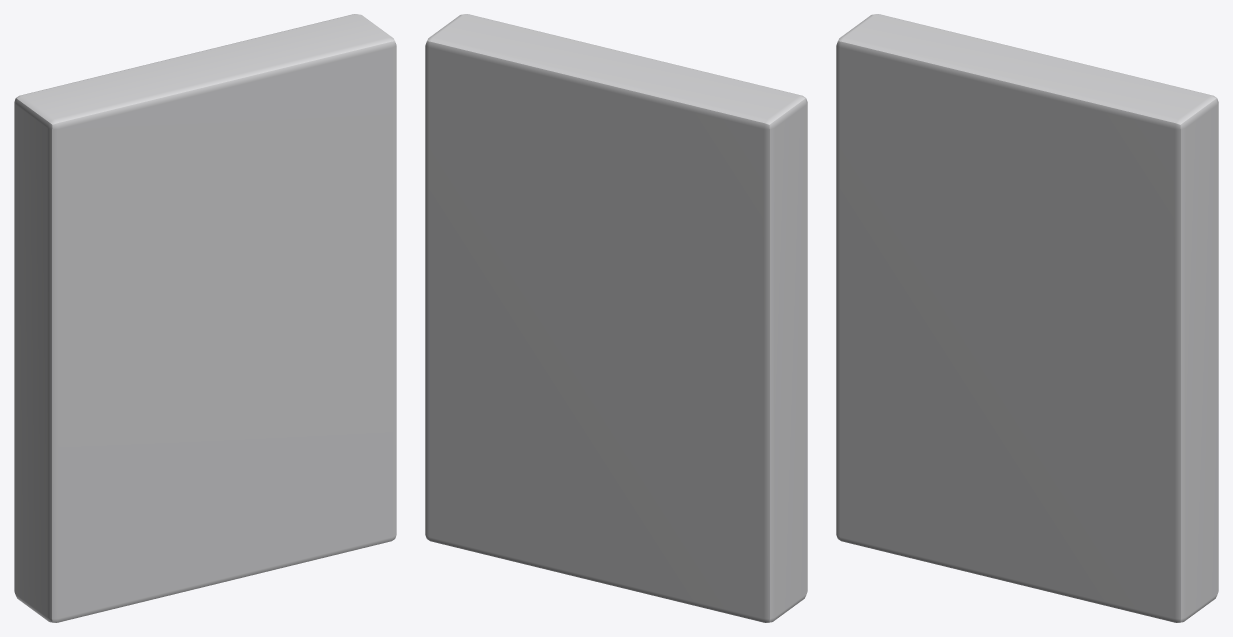
Rendered from Domino.fbx.
The picture shows the model from 3 angles, left to right: view 1: azimuth 30°, elevation 25°; view 2: azimuth 150°, elevation 25°; view 3: azimuth 330°, elevation 25°; orthographic projection.
Parts seen in each view (by area): view 1: pCube1; view 2: pCube1; view 3: pCube1.
Boxes of the visible parts, box(x1,y1,x2,y2) form: pCube1: box(14, 14, 396, 622); pCube1: box(425, 14, 807, 622); pCube1: box(836, 14, 1218, 622).
Size of the model in its own units: 1.4 by 1.94 by 0.2797.
1 material, 1 textured.
